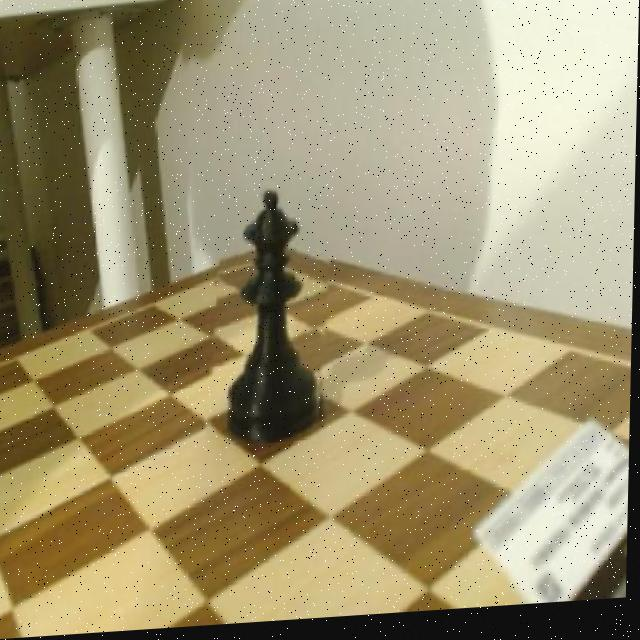black-pawn: (212, 188, 334, 450)
